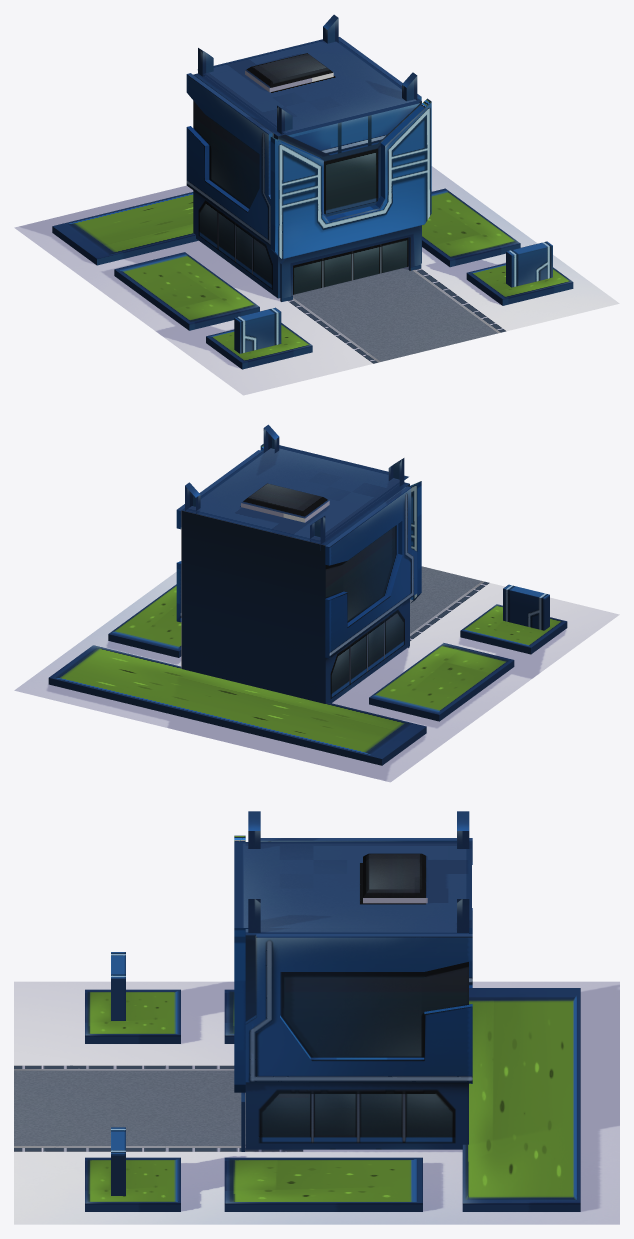
Rendered from Blue_T1.fbx.
3 views of the same model, one above another, from view 1: azimuth 30°, elevation 25°; view 2: azimuth 150°, elevation 25°; view 3: azimuth 270°, elevation 25° (orthographic). The views are drawn at different scales.
Visible parts, largest first — view 1: BlueClan_T1, polySurface44, polySurface41, polySurface40, polySurface39, polySurface48, Box065; view 2: BlueClan_T1, polySurface44, polySurface40, polySurface39, Box065, polySurface41, polySurface42; view 3: BlueClan_T1, polySurface44, polySurface42, polySurface40, Box065, polySurface41, polySurface39.
Boxes of the visible parts, bbox=[...] form: BlueClan_T1: bbox=[14, 166, 619, 395]; polySurface44: bbox=[193, 40, 421, 298]; polySurface41: bbox=[270, 98, 431, 259]; polySurface40: bbox=[197, 39, 419, 155]; polySurface39: bbox=[186, 73, 272, 245]; polySurface48: bbox=[280, 226, 421, 301]; Box065: bbox=[245, 53, 333, 92]; BlueClan_T1: bbox=[14, 566, 619, 782]; polySurface44: bbox=[181, 450, 409, 703]; polySurface40: bbox=[186, 445, 408, 542]; polySurface39: bbox=[325, 486, 417, 658]; Box065: bbox=[241, 483, 329, 522]; polySurface41: bbox=[260, 444, 421, 602]; polySurface42: bbox=[176, 450, 262, 622]; BlueClan_T1: bbox=[14, 952, 619, 1224]; polySurface44: bbox=[245, 928, 468, 1149]; polySurface42: bbox=[245, 934, 472, 1083]; polySurface40: bbox=[234, 842, 471, 936]; Box065: bbox=[363, 853, 427, 903]; polySurface41: bbox=[234, 835, 245, 1092]; polySurface39: bbox=[260, 838, 472, 987].
Size of the model in its own units: 69.36 by 34.91 by 73.16.
2 materials, 2 textured.
